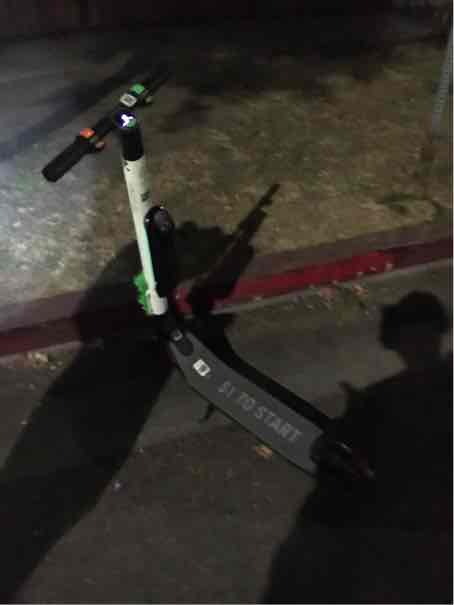scooter: (30, 58, 399, 499)
